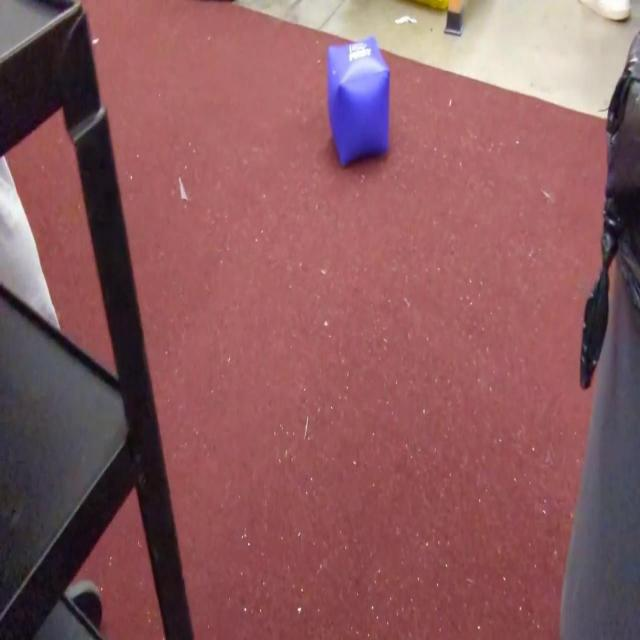frc_cube: (328, 33, 390, 164)
